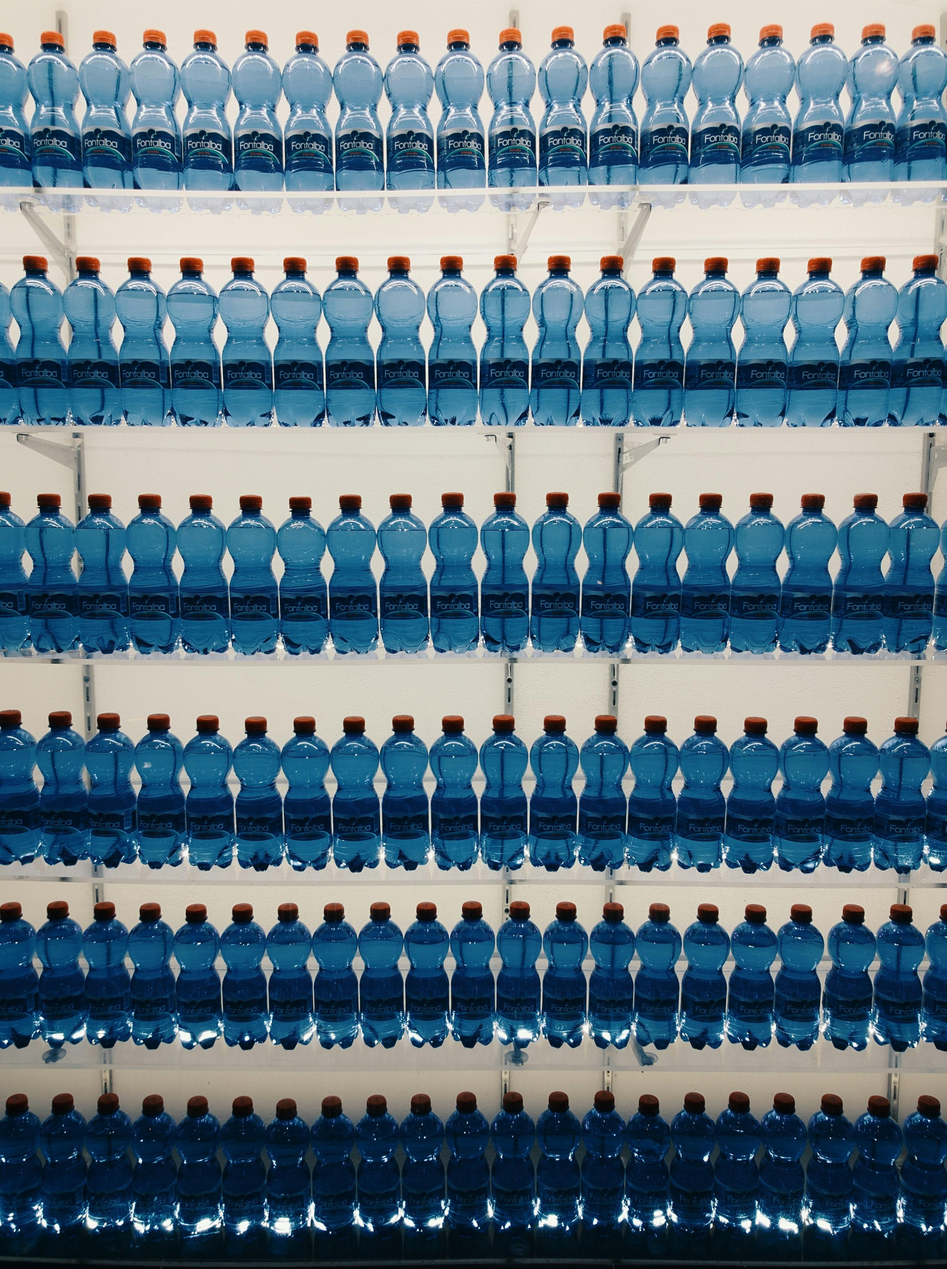Bottle-Detection: (6, 479, 947, 673), (6, 244, 947, 432), (3, 707, 947, 879), (3, 895, 947, 1067), (9, 22, 939, 194), (6, 1083, 947, 1249)
